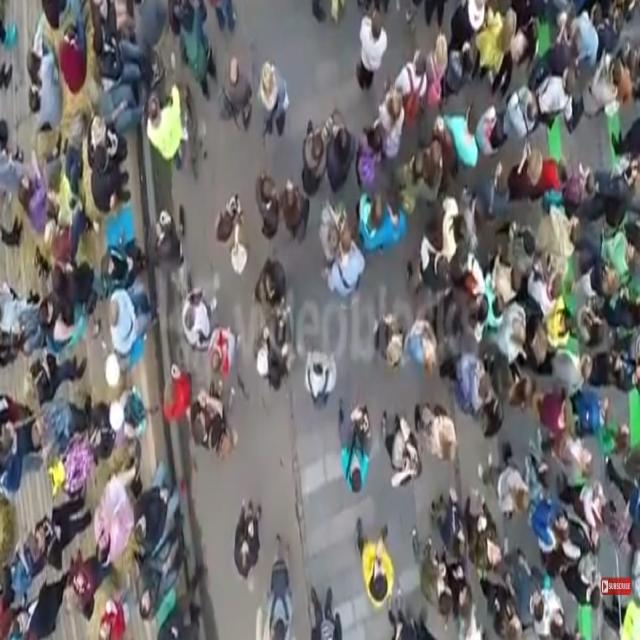humans: (145, 80, 191, 166), (481, 436, 529, 518), (335, 396, 374, 496), (415, 529, 455, 625), (356, 517, 395, 611), (90, 135, 132, 215), (135, 553, 182, 624), (213, 190, 250, 276), (513, 538, 545, 636), (94, 478, 128, 570), (484, 0, 518, 89), (188, 389, 234, 454), (584, 50, 624, 124), (386, 408, 422, 488), (38, 208, 88, 262), (426, 396, 460, 475), (258, 60, 292, 138), (407, 312, 442, 386), (532, 491, 575, 551), (356, 12, 388, 91), (234, 500, 264, 584), (337, 220, 367, 302), (223, 52, 254, 131), (504, 212, 538, 284), (550, 341, 596, 394), (430, 200, 468, 264), (154, 200, 188, 270), (108, 288, 147, 348), (299, 117, 329, 192), (326, 107, 352, 192), (376, 307, 407, 377), (404, 45, 430, 127), (179, 284, 211, 348), (281, 177, 313, 240), (484, 92, 511, 166), (516, 134, 547, 198), (455, 98, 481, 174), (359, 117, 388, 185), (36, 283, 65, 350), (381, 83, 407, 157), (304, 348, 338, 402), (360, 188, 386, 254), (431, 28, 451, 112), (207, 326, 241, 375), (257, 254, 289, 306), (257, 345, 289, 396), (384, 181, 408, 249), (162, 359, 188, 421), (423, 124, 448, 188), (257, 175, 281, 241), (321, 196, 343, 267), (554, 58, 576, 129), (466, 173, 487, 246), (543, 579, 568, 640), (514, 83, 542, 133), (540, 267, 568, 317), (488, 158, 511, 214), (466, 360, 490, 413), (514, 358, 534, 418), (468, 289, 490, 336), (407, 152, 431, 194), (485, 390, 507, 433)
